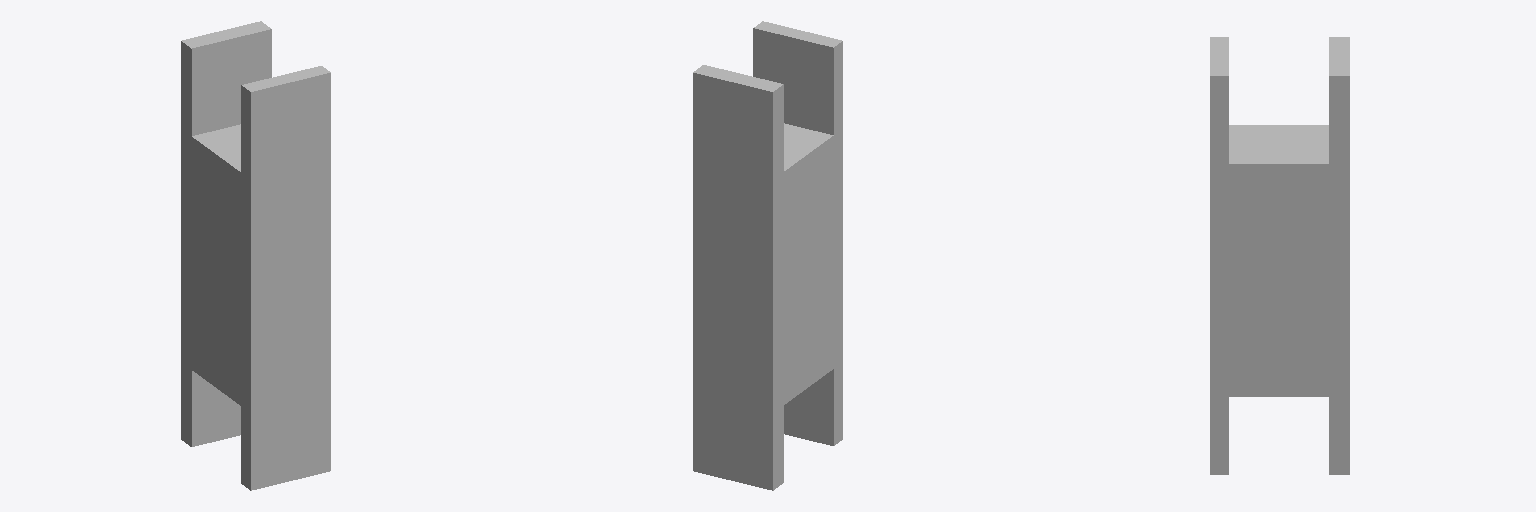
Rendered from Forearm.obj.
3 renders of one model, left to right at view 1: azimuth 30°, elevation 25°; view 2: azimuth 150°, elevation 25°; view 3: azimuth 270°, elevation 25°, orthographic.
Parts seen in each view (by area): view 1: Forearm; view 2: Forearm; view 3: Forearm.
Boxes of the visible parts, x1,y1,x2,y2 form: Forearm: [181, 21, 330, 490]; Forearm: [693, 21, 842, 490]; Forearm: [1210, 37, 1349, 474].
Bounding box in the file's own units: 2 × 9.49 × 3.03.